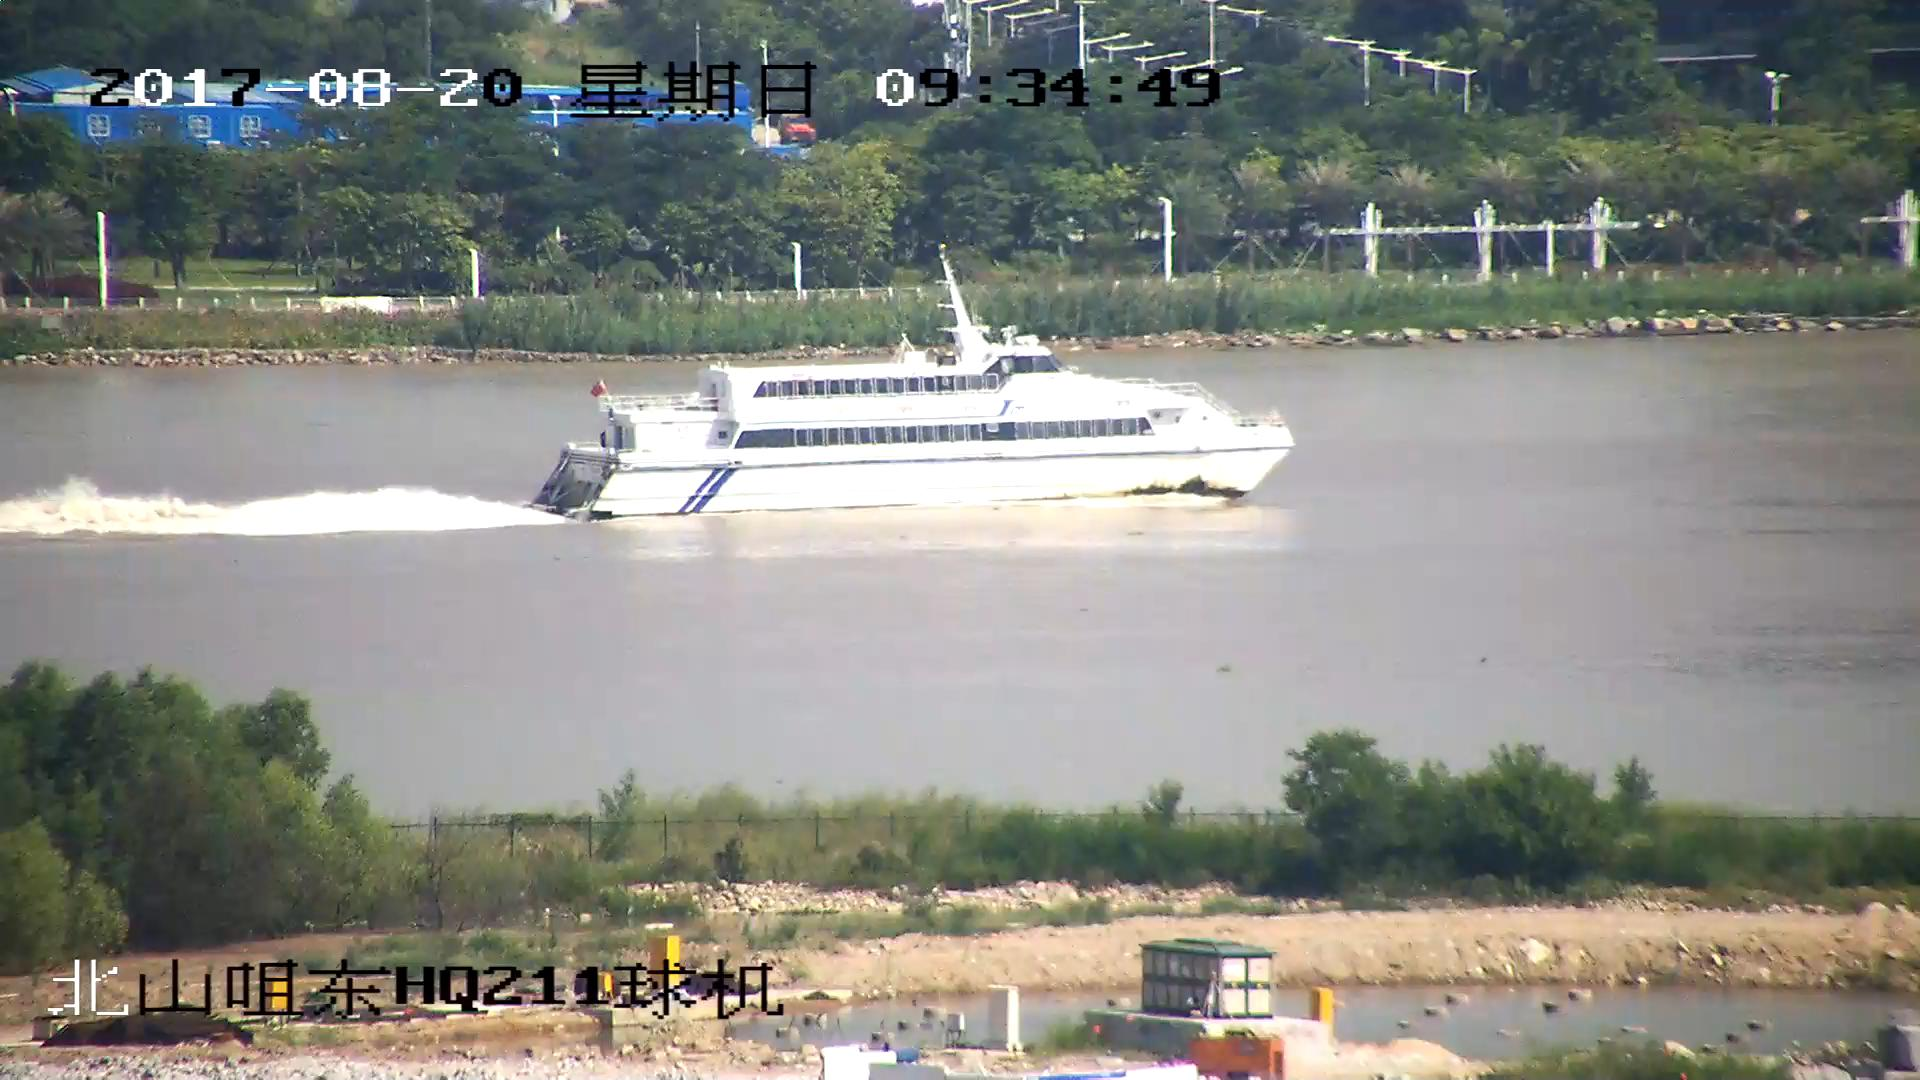passenger ship: (536, 261, 1295, 518)
